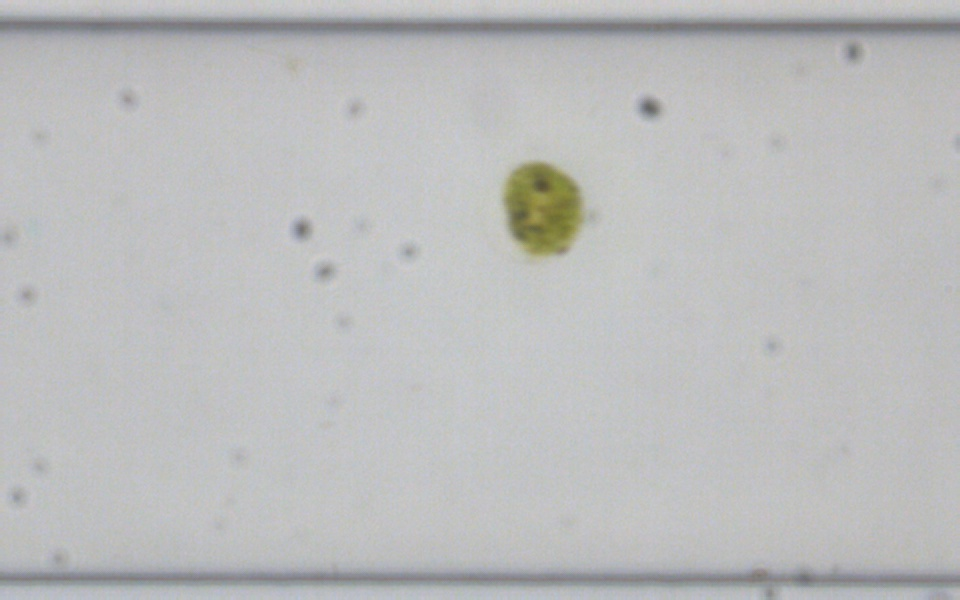Haematococcus: (499, 156, 584, 262)
